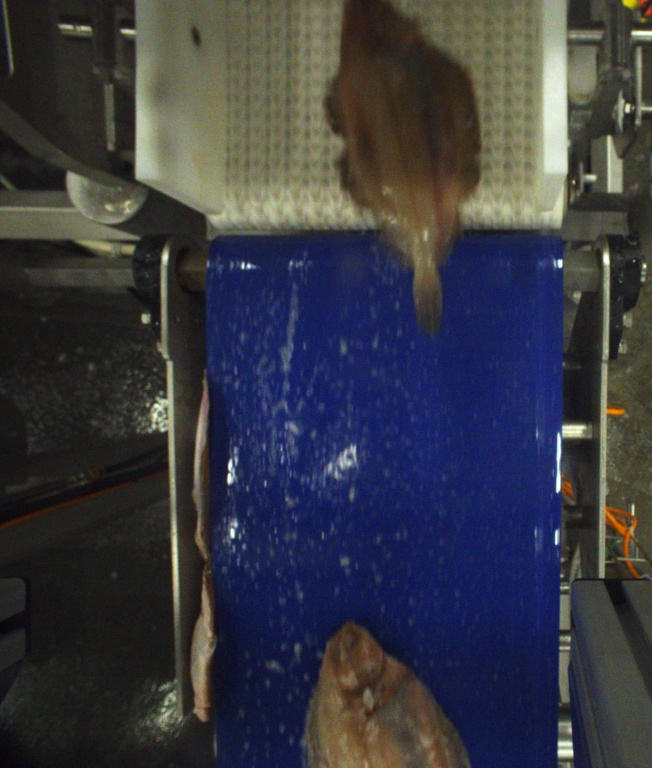WIT: (323, 0, 480, 335)
